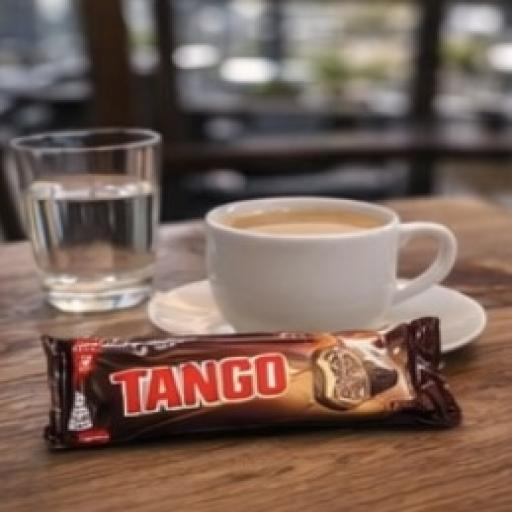tango: (33, 275, 512, 473)
